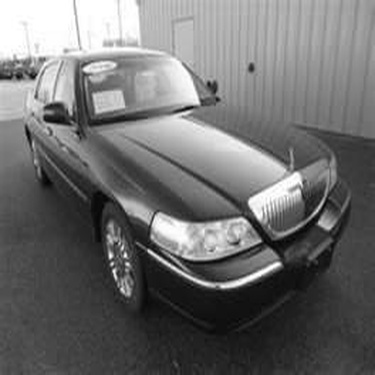car: (13, 23, 348, 328)
